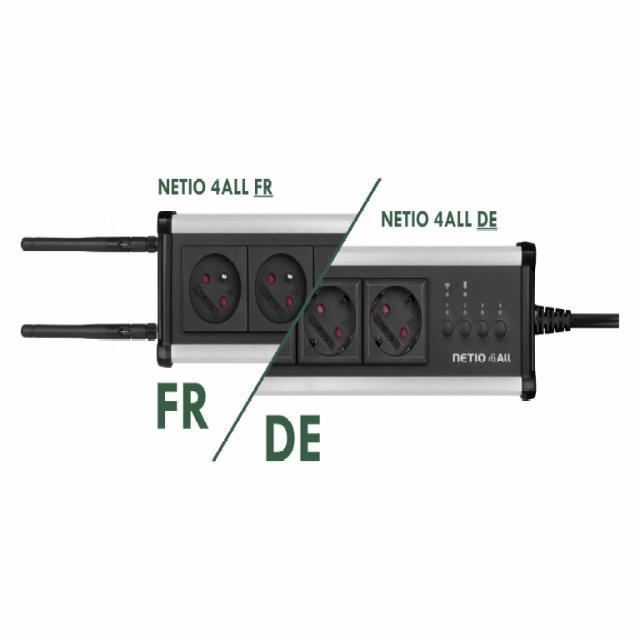typeb: (304, 271, 432, 392), (174, 236, 316, 336)
